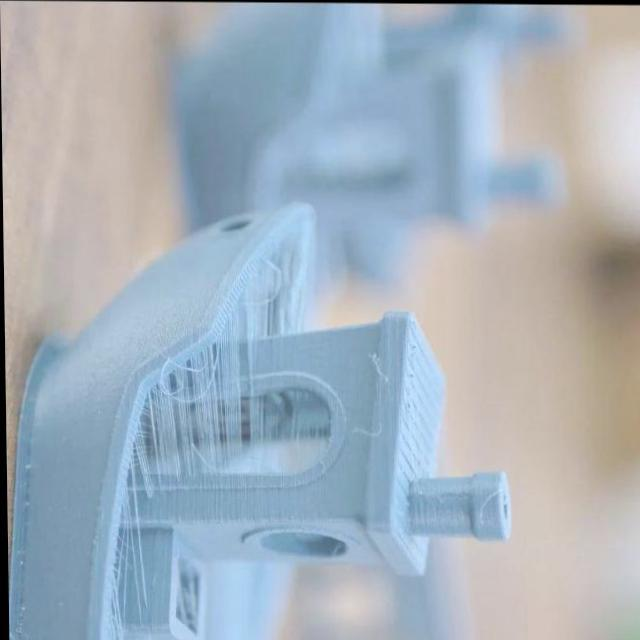stringing: (150, 290, 248, 484), (112, 398, 150, 634)
